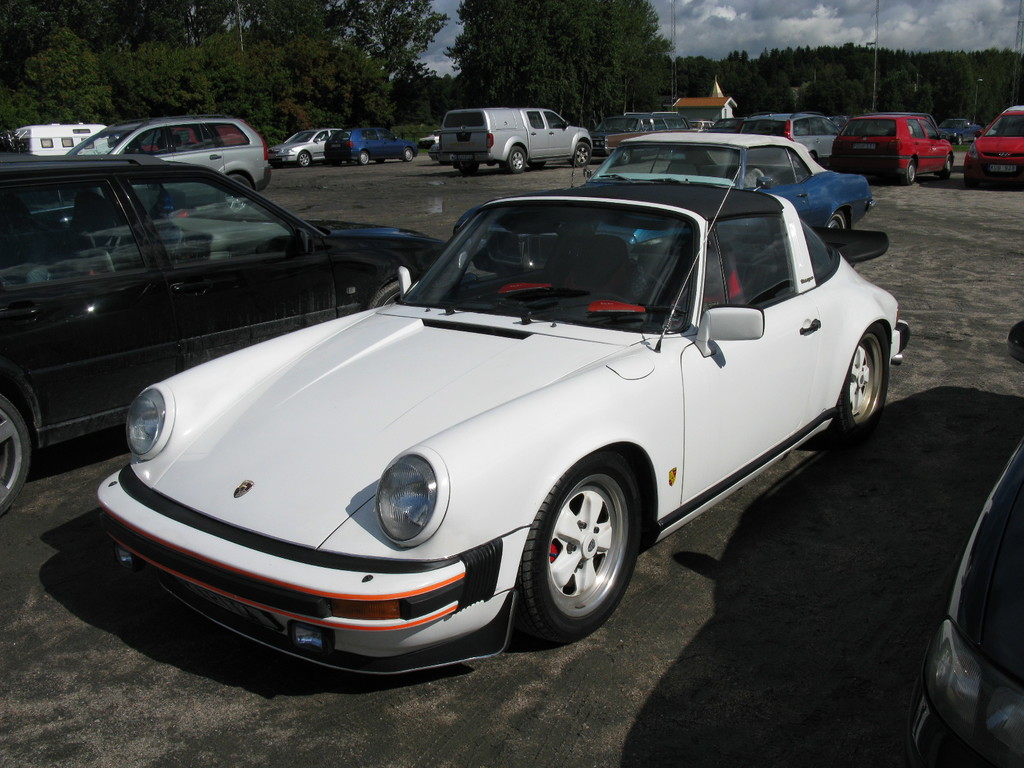Car: (0, 103, 1023, 767)
